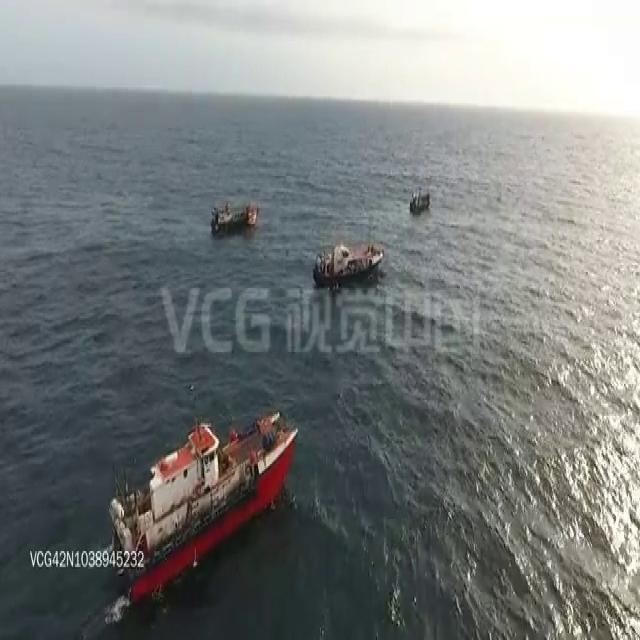houseboat: (317, 236, 385, 277), (209, 194, 260, 227), (407, 181, 435, 218)
passenger ship: (109, 402, 295, 596)
